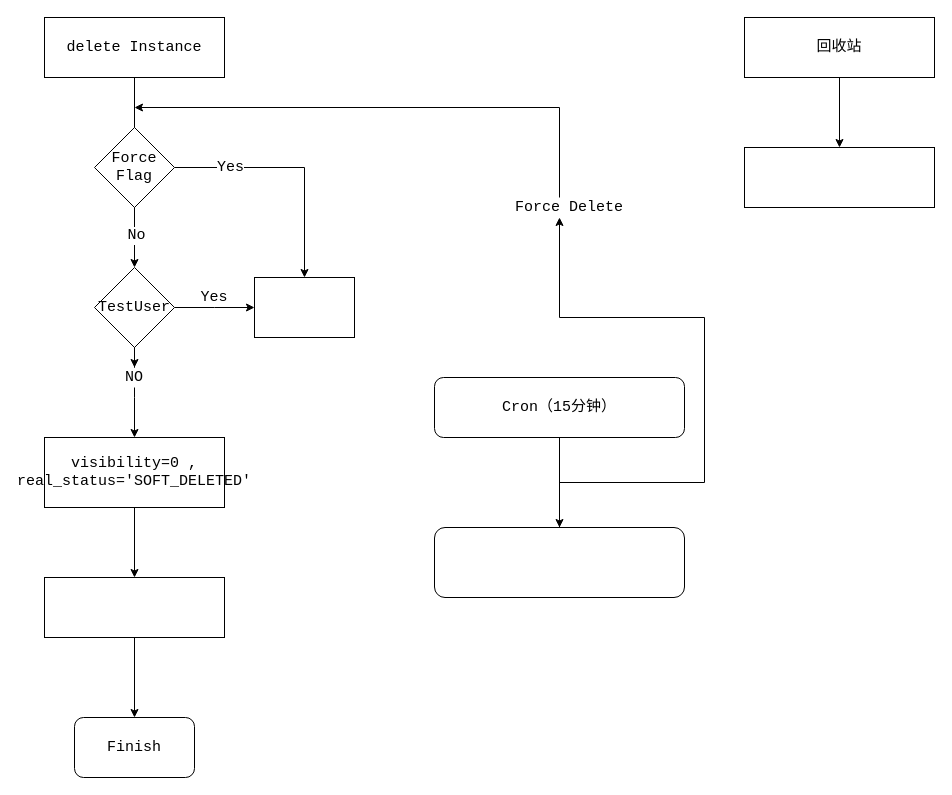
This 952x795 diagram has some shape labels left out. The box of each missing label's shape, as (x1, y1, x2, y2) in pixels:
and filter real status= soft deleted: (744, 146, 934, 208)
Delete: (254, 276, 354, 338)
DisableInternetAccess: (44, 576, 224, 638)
Instance (real_status=SOFT_DELETED update_time > 24 小时 ): (434, 526, 684, 598)
